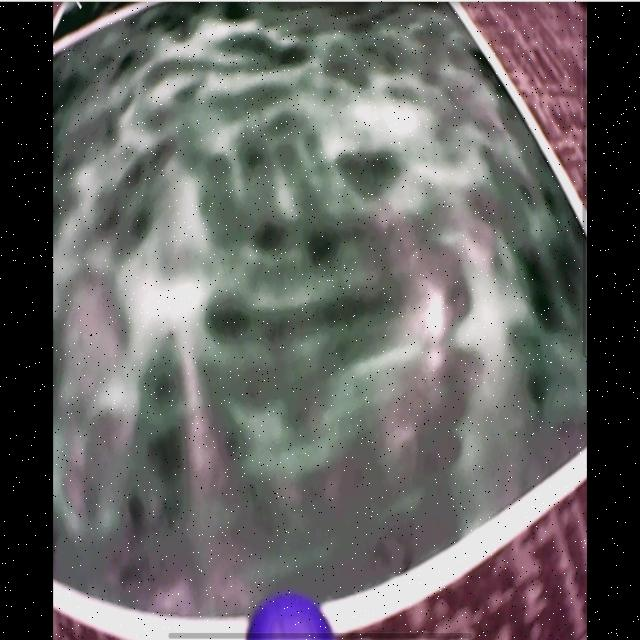ball: (249, 592, 334, 639)
